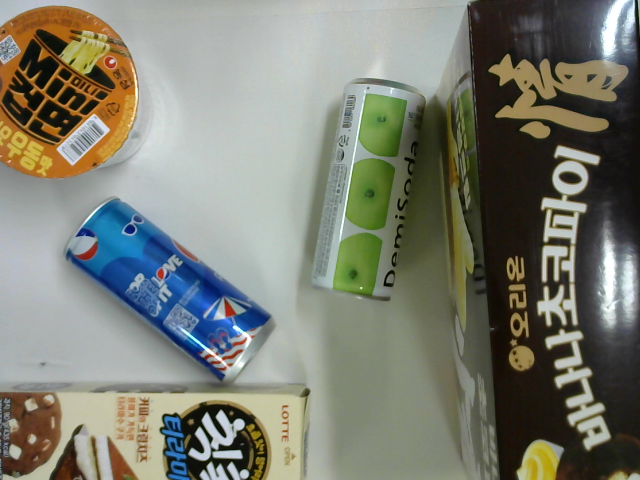Chicchok_Tiramisu: (1, 381, 311, 480)
Choco_Pie_Banana: (428, 1, 640, 478)
Demisoda_Apple_Can_250ml: (309, 77, 427, 303)
Pepsi_Cola_Can_250ml: (64, 195, 278, 386)
Udongmini: (1, 4, 154, 180)
